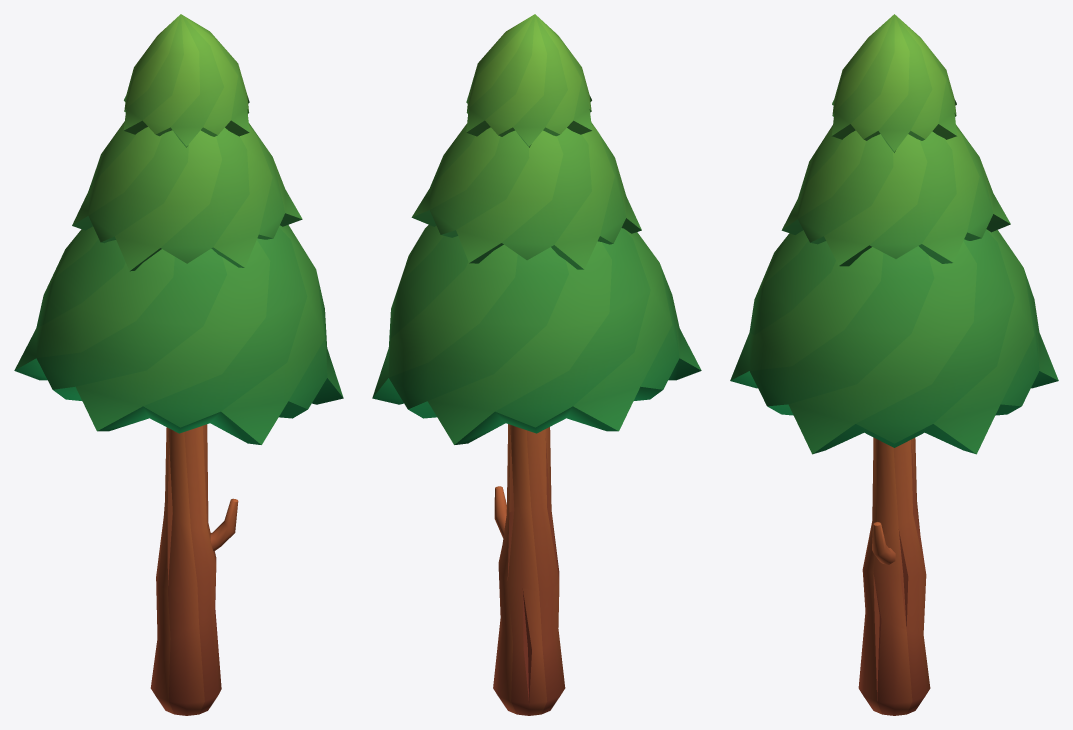
File: Tree_5_E_Color1.gltf
The picture shows the model from 3 angles, left to right: view 1: azimuth 30°, elevation 25°; view 2: azimuth 150°, elevation 25°; view 3: azimuth 270°, elevation 25°; orthographic projection.
Visible parts, largest first — view 1: Tree_5_E_Color1; view 2: Tree_5_E_Color1; view 3: Tree_5_E_Color1.
Part boxes in pixels (x1,y1,x2,y2): Tree_5_E_Color1: [14, 14, 343, 715]; Tree_5_E_Color1: [372, 14, 701, 715]; Tree_5_E_Color1: [730, 14, 1058, 715].
Bounding box in the file's own units: 3.08 × 8.09 × 3.46.
1 material, 1 textured.
